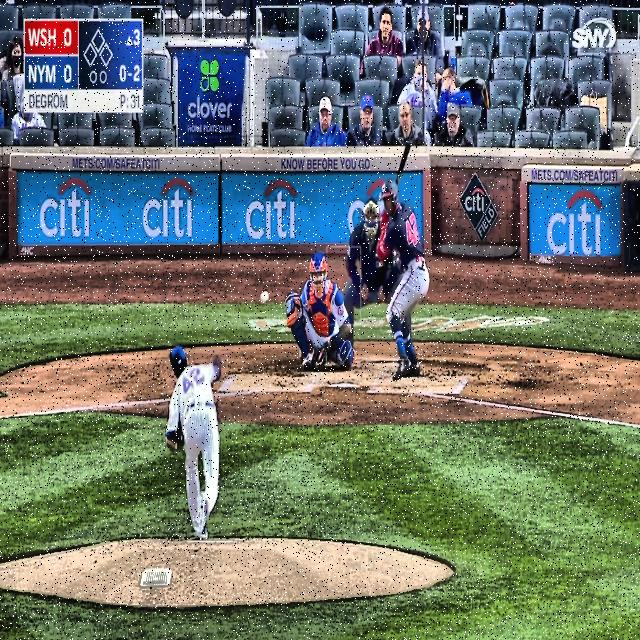baseball: (260, 290, 269, 304)
